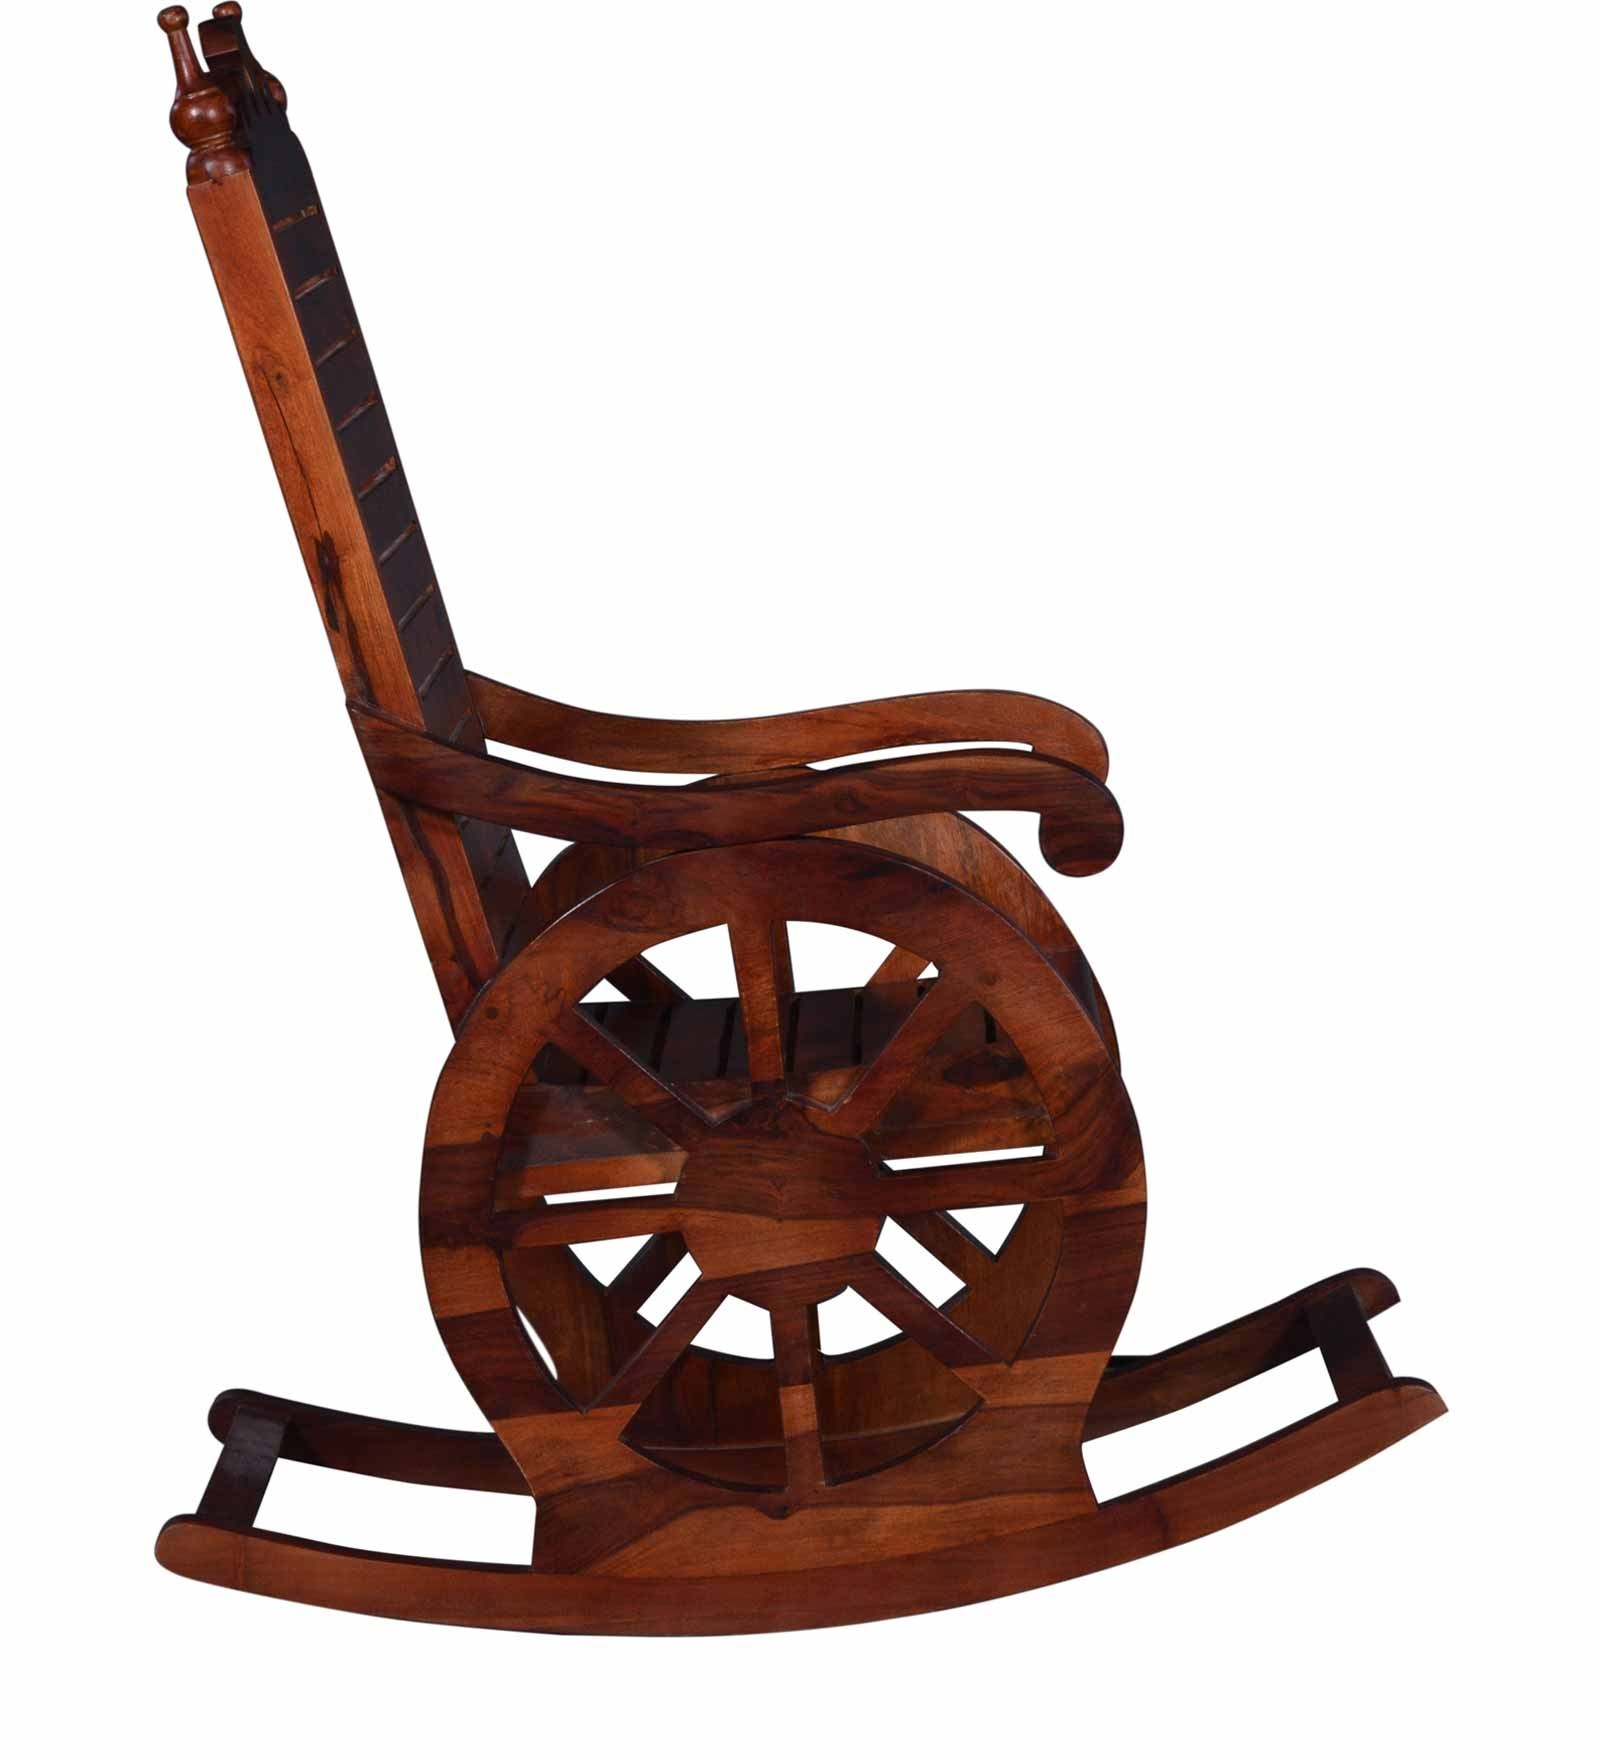Harold Rocking Chair in Honey Oak Finish by Amberville: (83, 2, 1520, 1699)
